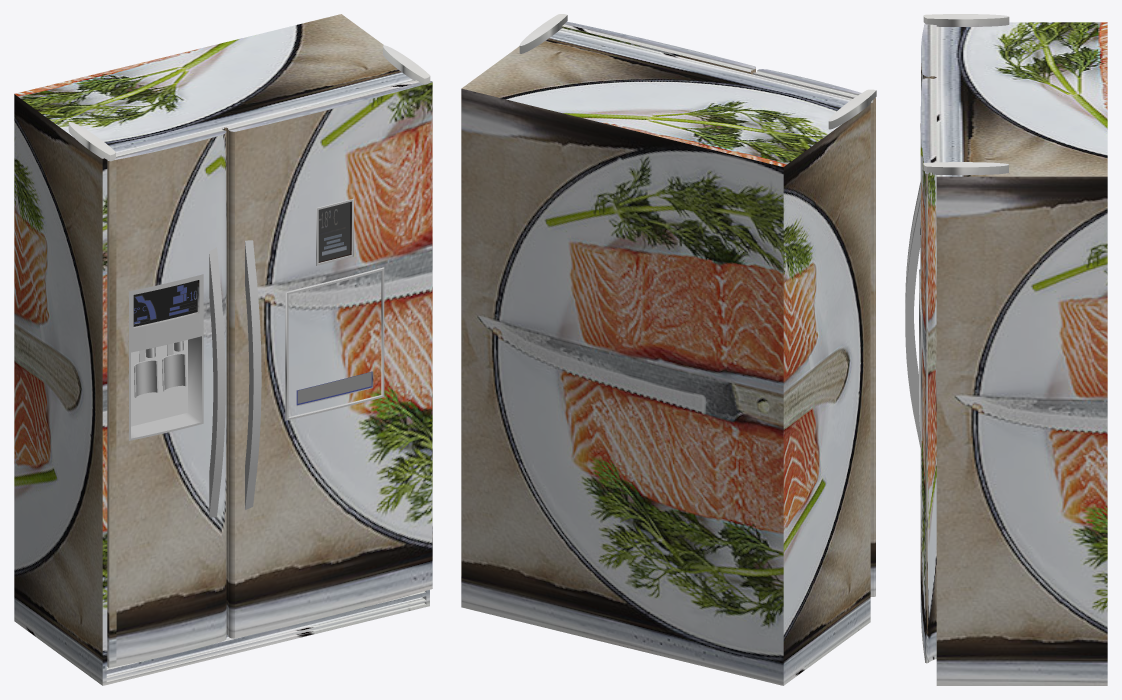
File: Fridge.fbx
The picture shows the model from 3 angles, left to right: view 1: azimuth 30°, elevation 25°; view 2: azimuth 150°, elevation 25°; view 3: azimuth 270°, elevation 25°; orthographic projection. The views are drawn at different scales.
Visible parts, largest first — view 1: Group12, Group1, Group21, Group_4_2, Group_4_1, Group23, Group25, Group14, Group15, Group19, Group18, Group_10_1 (+4 smaller); view 2: Group1, Group21, Group12, Group26, Group20; view 3: Group1, Group12, Group_4_1, Group20, Group26, Group21, Group_4_2.
Boxes of the visible parts, x1,y1,x2,y2 form: Group12: [224, 80, 432, 638]; Group1: [14, 14, 429, 685]; Group21: [107, 128, 226, 667]; Group_4_2: [209, 247, 225, 517]; Group_4_1: [245, 240, 261, 509]; Group23: [134, 280, 198, 327]; Group25: [133, 280, 197, 326]; Group14: [319, 202, 351, 262]; Group15: [318, 202, 350, 261]; Group19: [297, 371, 372, 405]; Group18: [296, 371, 372, 405]; Group_10_1: [162, 341, 186, 391]; Group1: [461, 28, 870, 685]; Group21: [753, 69, 875, 596]; Group12: [562, 21, 755, 74]; Group26: [828, 89, 876, 129]; Group20: [519, 14, 567, 53]; Group1: [936, 22, 1107, 685]; Group12: [919, 78, 936, 663]; Group_4_1: [905, 198, 920, 447]; Group20: [923, 162, 1008, 175]; Group26: [923, 14, 1009, 26]; Group21: [921, 23, 936, 95]; Group_4_2: [905, 182, 920, 390].
Bounding box in the file's own units: 1.28 × 2 × 0.7098.
